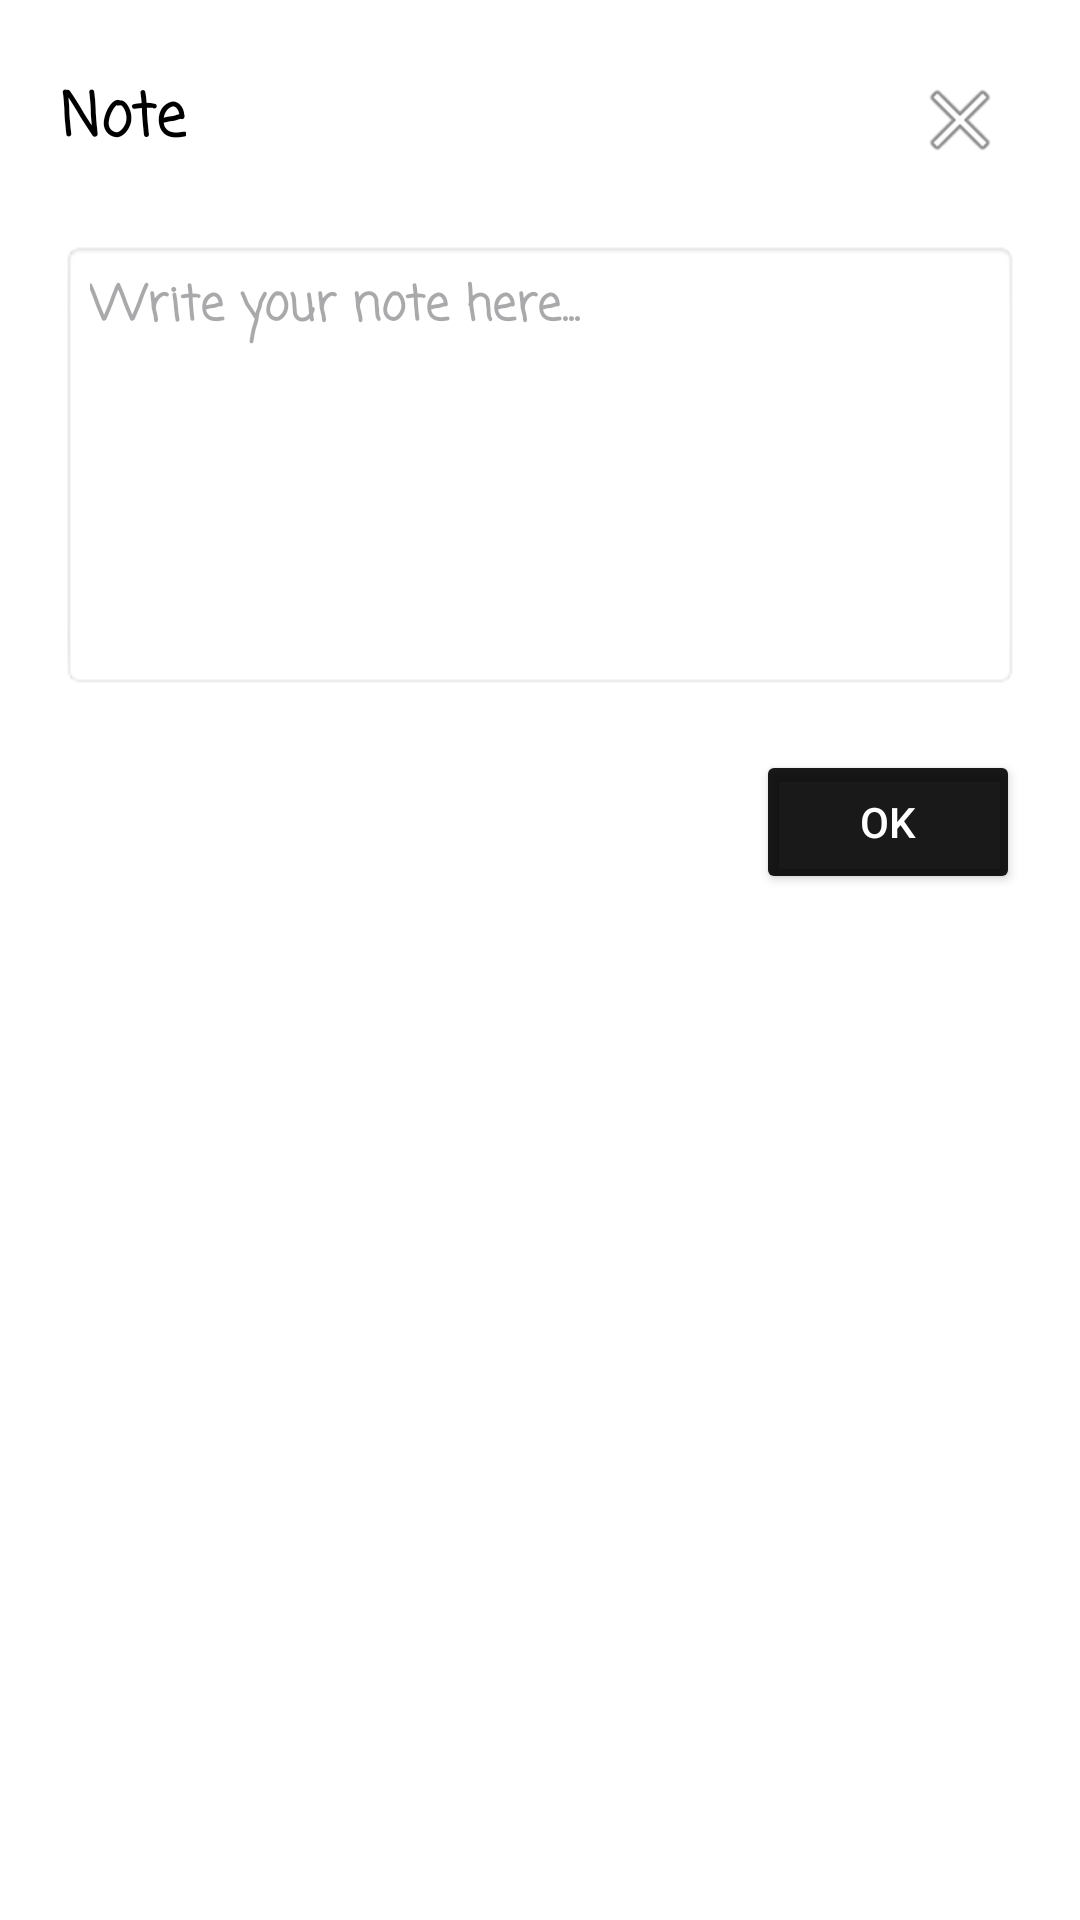

Screen size 1080x1920. Icon name, then its box in pixels as (x1, y1, x2, y2):
close clear cancel: (930, 90, 990, 150)
